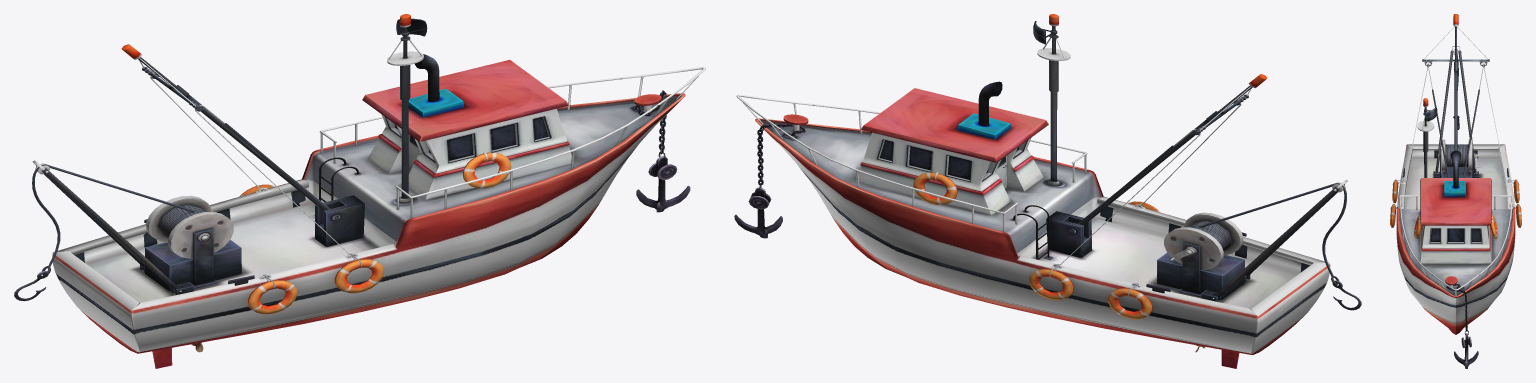
Rendered from fishingboat.glb.
3 renders of one model, left to right at view 1: azimuth 30°, elevation 25°; view 2: azimuth 150°, elevation 25°; view 3: azimuth 270°, elevation 25°, orthographic. The views are drawn at different scales.
Visible parts, largest first — view 1: node_id79_3, node_id77_2; view 2: node_id79_3, node_id77_2; view 3: node_id79_3, node_id77_2.
Boxes of the visible parts, bbox=[...] form: node_id79_3: bbox=[52, 76, 698, 353]; node_id77_2: bbox=[14, 14, 705, 368]; node_id79_3: bbox=[734, 103, 1330, 355]; node_id77_2: bbox=[736, 14, 1361, 368]; node_id79_3: bbox=[1390, 144, 1521, 368]; node_id77_2: bbox=[1390, 14, 1521, 290].
Bounding box in the file's own units: 1.44 × 0.6582 × 0.3843.
Materials: 2 (2 with a texture image).
